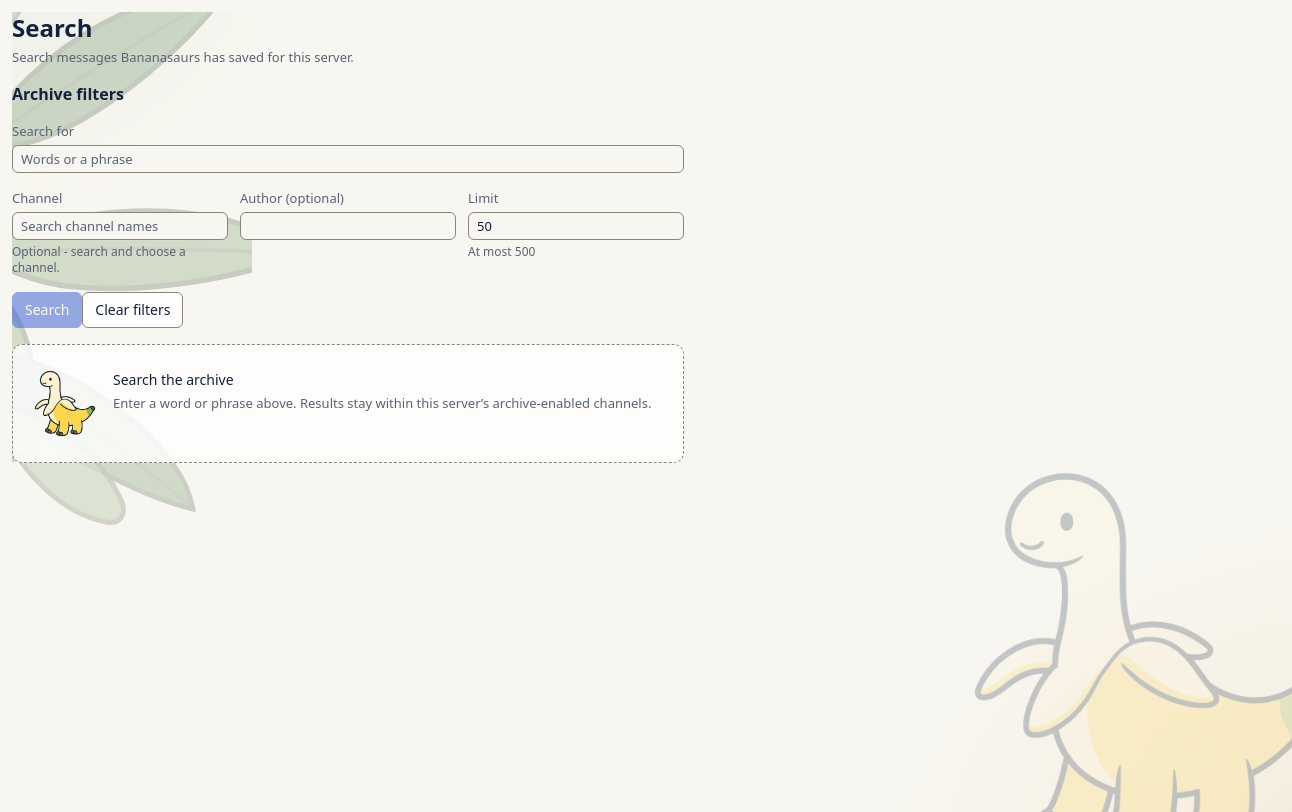
it: SearchPage › submits the query and renders hits best match first
Type "compressor" into the field labelled "Search for".
click(348, 159); type("compressor")  # box left=12, top=145, right=684, bottom=173
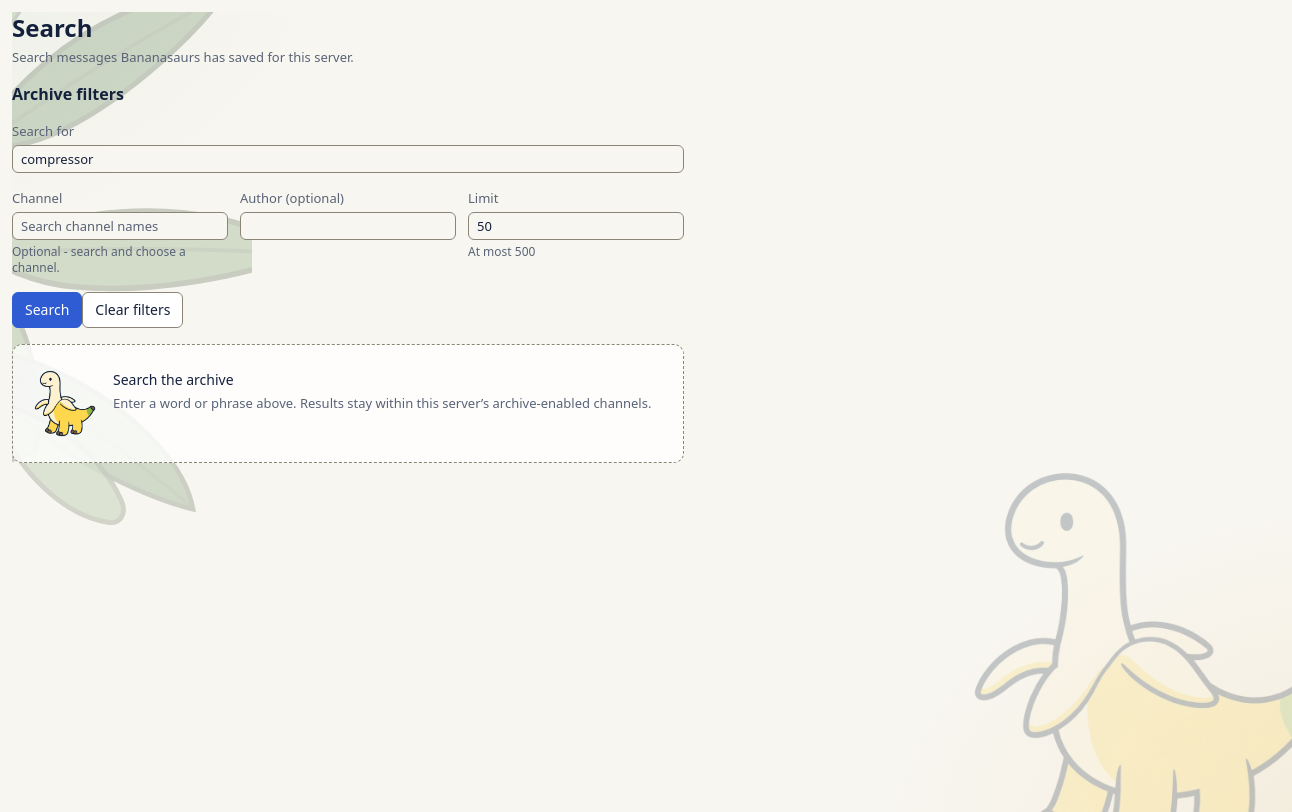
Click the button "Search".
click(47, 310)  # box left=12, top=292, right=82, bottom=328
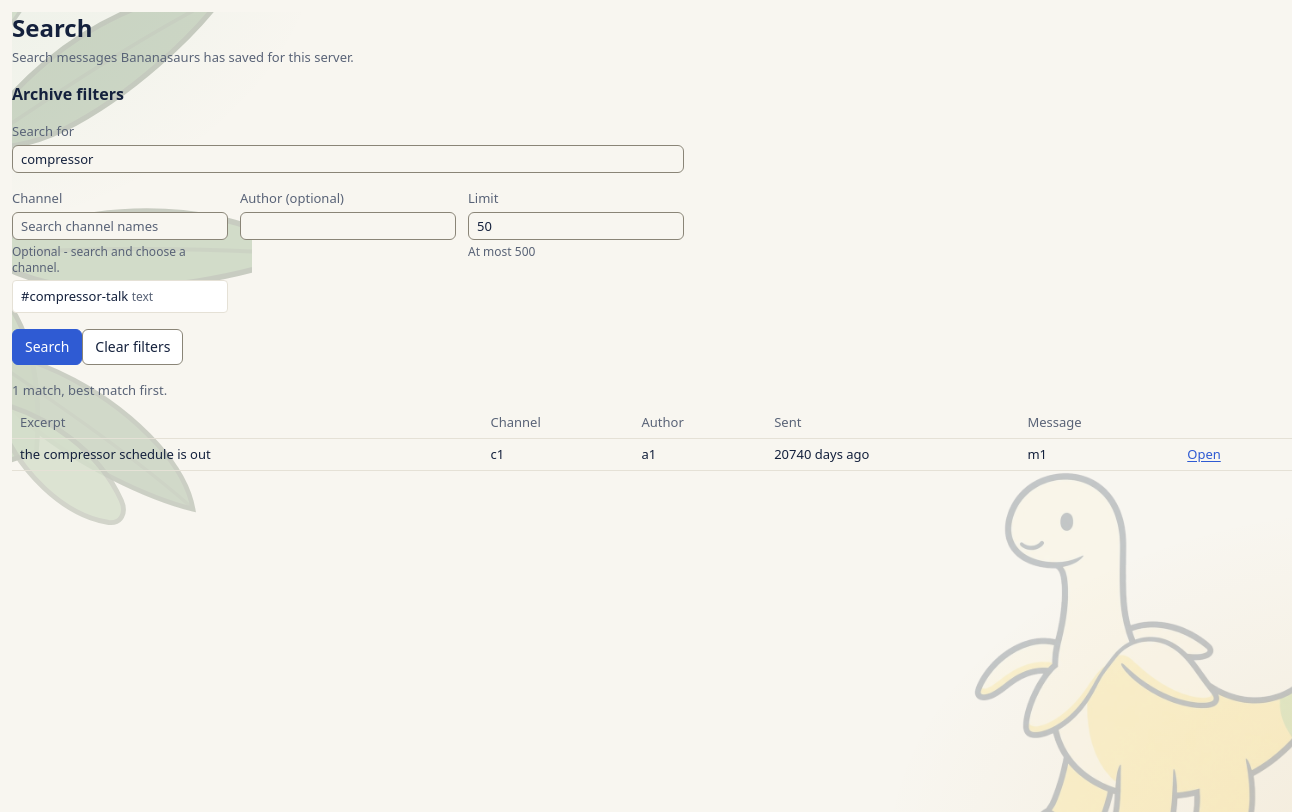
Now the text "the compressor schedule is out" is shown, box left=20, top=445, right=211, bottom=463
Now the text "1 match, best match first." is shown, box left=12, top=381, right=167, bottom=399
